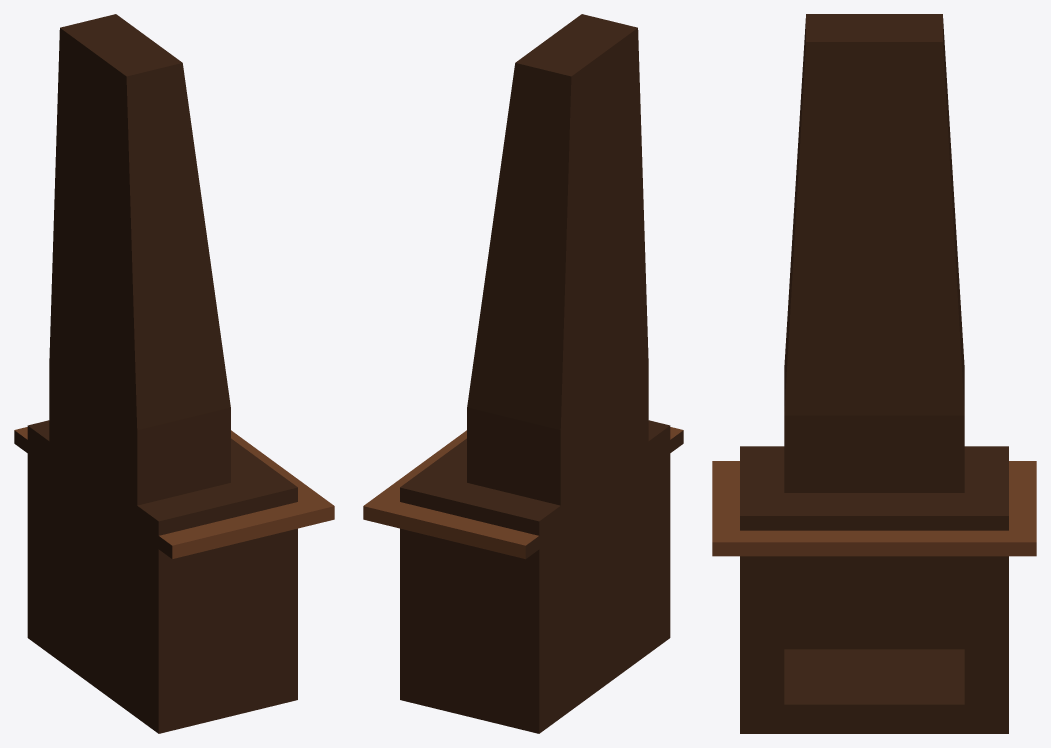
Rendered from fireplace 1.fbx.
3 renders of one model, left to right at view 1: azimuth 30°, elevation 25°; view 2: azimuth 150°, elevation 25°; view 3: azimuth 270°, elevation 25°, orthographic. The views are drawn at different scales.
Visible parts, largest first — view 1: Cube; view 2: Cube; view 3: Cube.
Boxes of the visible parts, box(x1,y1,x2,y2) form: Cube: box(14, 14, 334, 733); Cube: box(363, 14, 683, 733); Cube: box(712, 14, 1036, 733).
Bounding box in the file's own units: 519 × 1935 × 874.
Materials: 1 (1 with a texture image).
